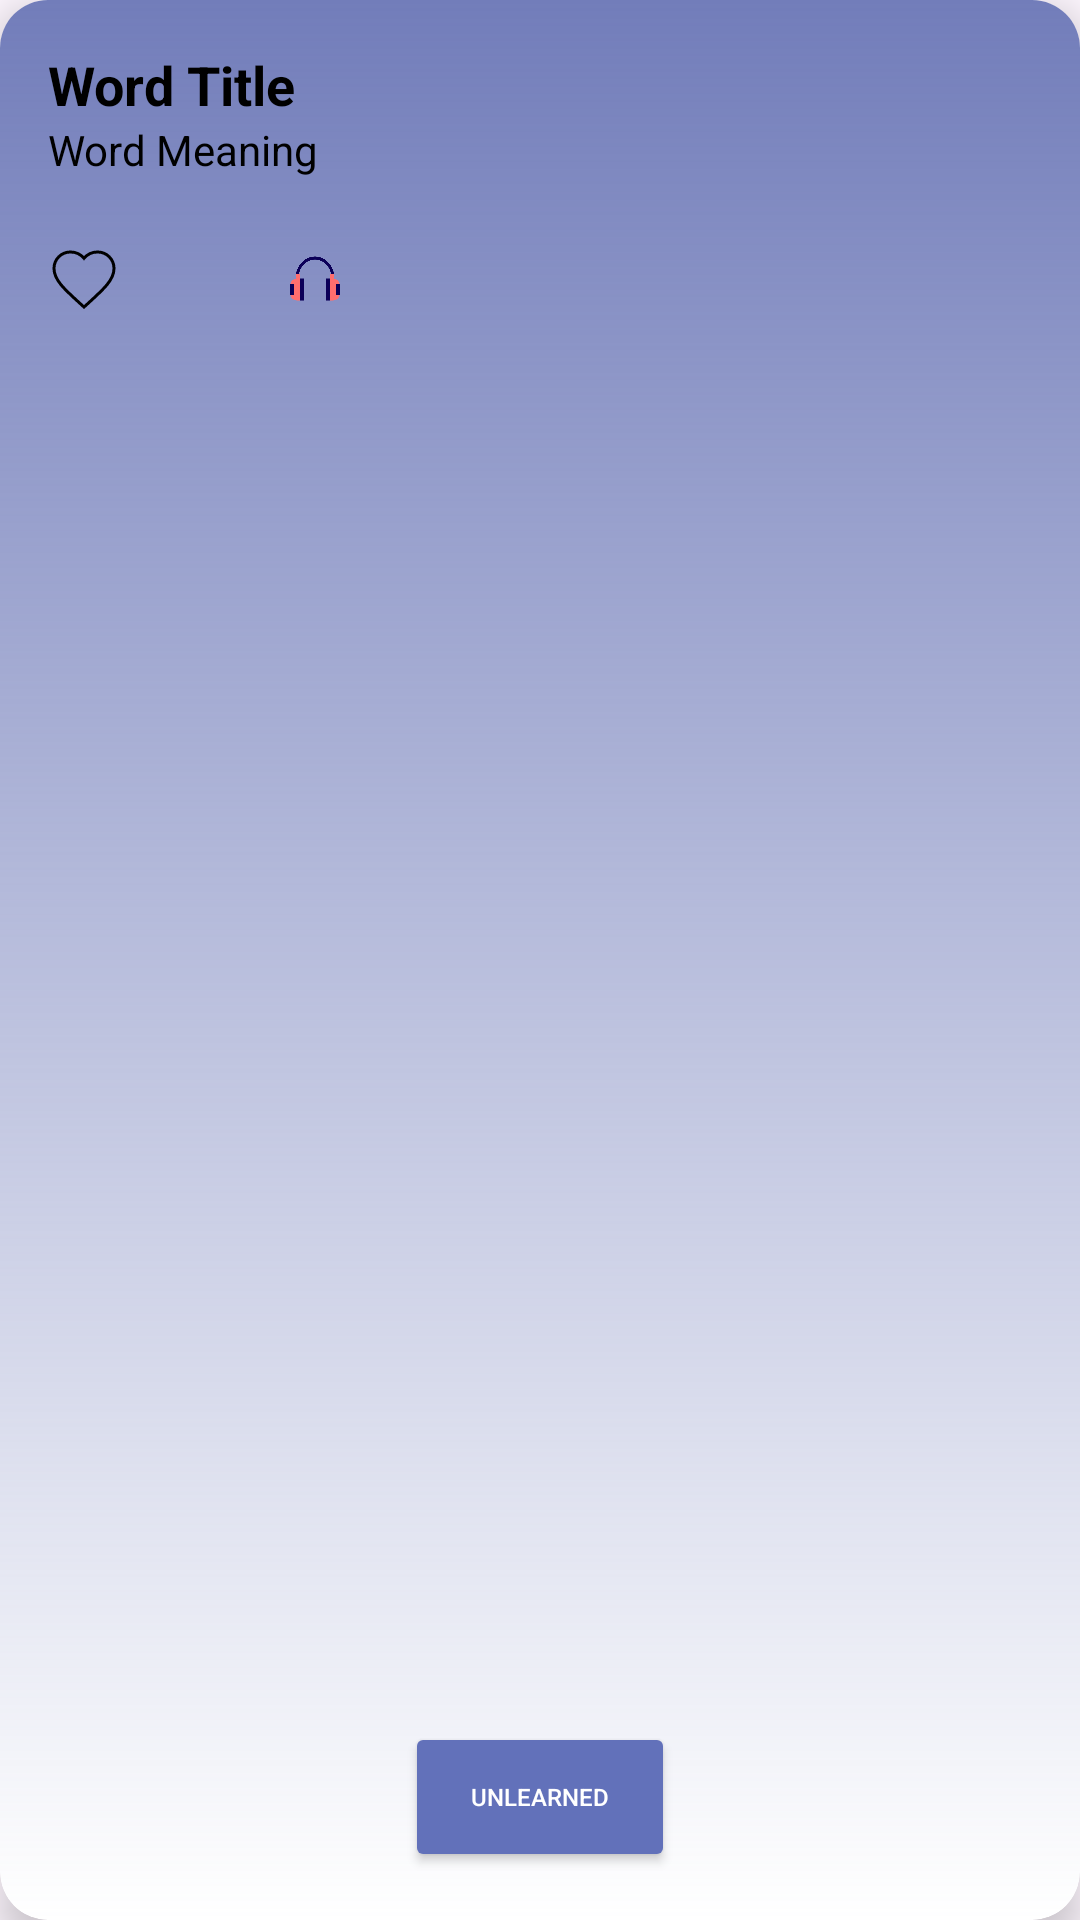

Icon bounding boxes for this 1080w x 1920h phone screenshot, format (x1, y1, x2, y2):
Favorite: (52, 250, 116, 309)
Listen: (290, 256, 340, 301)
